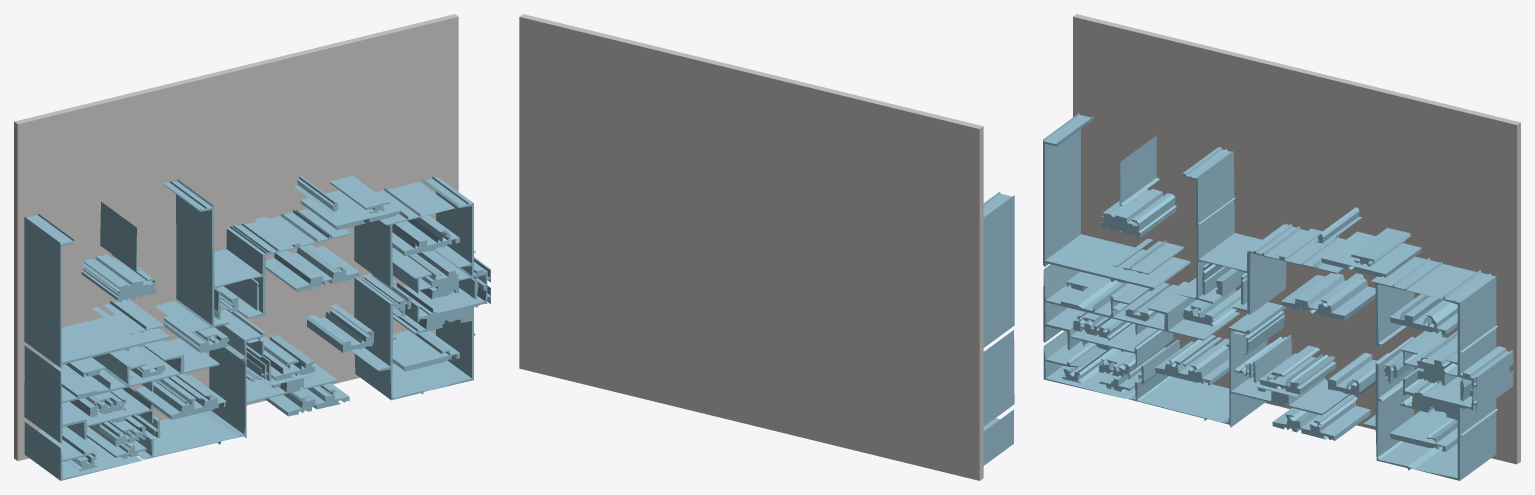
3 renders of one model, left to right at view 1: azimuth 30°, elevation 25°; view 2: azimuth 150°, elevation 25°; view 3: azimuth 330°, elevation 25°, orthographic. The views are drawn at different scales.
Visible parts, largest first — view 1: world; view 2: world; view 3: world.
Boxes of the visible parts, bbox=[...] form: world: bbox=[14, 14, 490, 480]; world: bbox=[519, 14, 1014, 480]; world: bbox=[1043, 14, 1520, 480].
Size of the model in its own units: 10.23 by 7.47 by 1.6.
